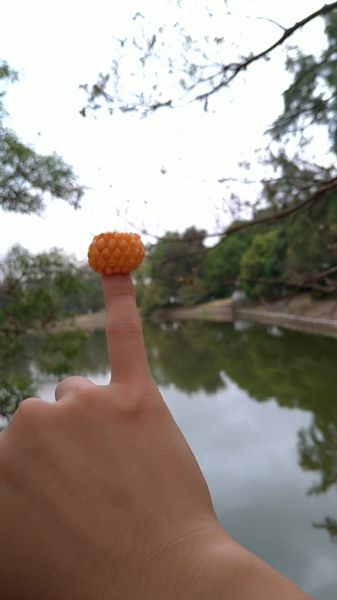eggs: (88, 232, 144, 275)
